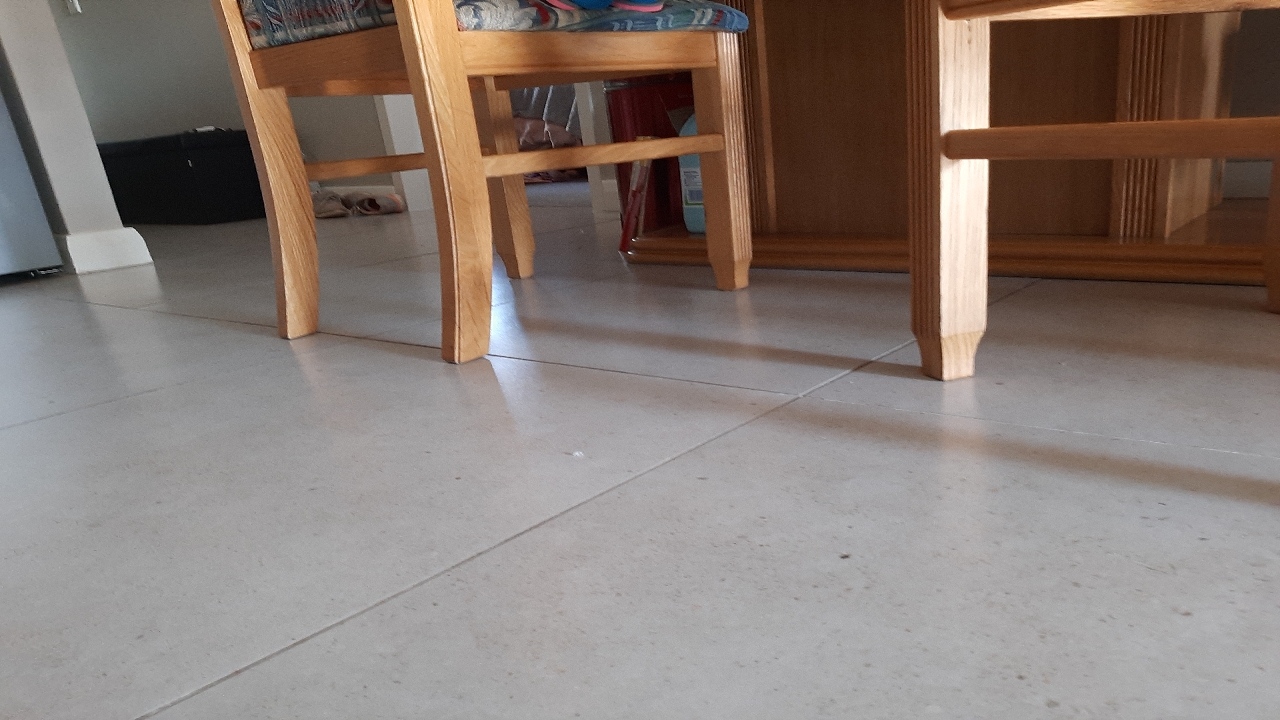chair: (252, 194, 1094, 434)
